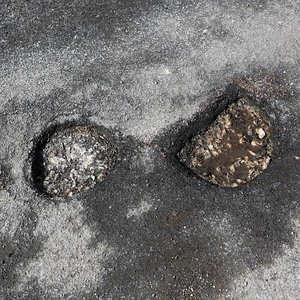pothole: (175, 80, 278, 188), (23, 114, 127, 207)
